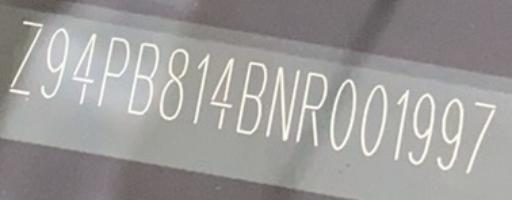letter: (6, 17, 44, 98), (264, 63, 302, 143), (462, 97, 498, 175), (126, 40, 160, 118), (96, 34, 130, 111), (234, 59, 268, 135), (296, 70, 328, 148), (158, 46, 190, 123), (38, 26, 70, 102), (434, 95, 466, 171), (360, 83, 390, 159), (208, 53, 236, 131), (328, 75, 356, 152), (407, 91, 435, 164), (70, 30, 96, 107), (190, 51, 212, 125), (391, 86, 411, 162)
